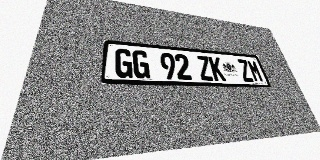2: (174, 53, 192, 80)
9: (160, 52, 178, 80)
G: (115, 48, 133, 78), (132, 50, 150, 79)
K: (208, 56, 226, 81)
M: (246, 60, 264, 82)
Z: (196, 55, 214, 81), (236, 59, 254, 82)
